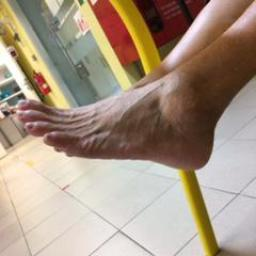Lateral View -Left Foot-: (6, 72, 232, 184)
